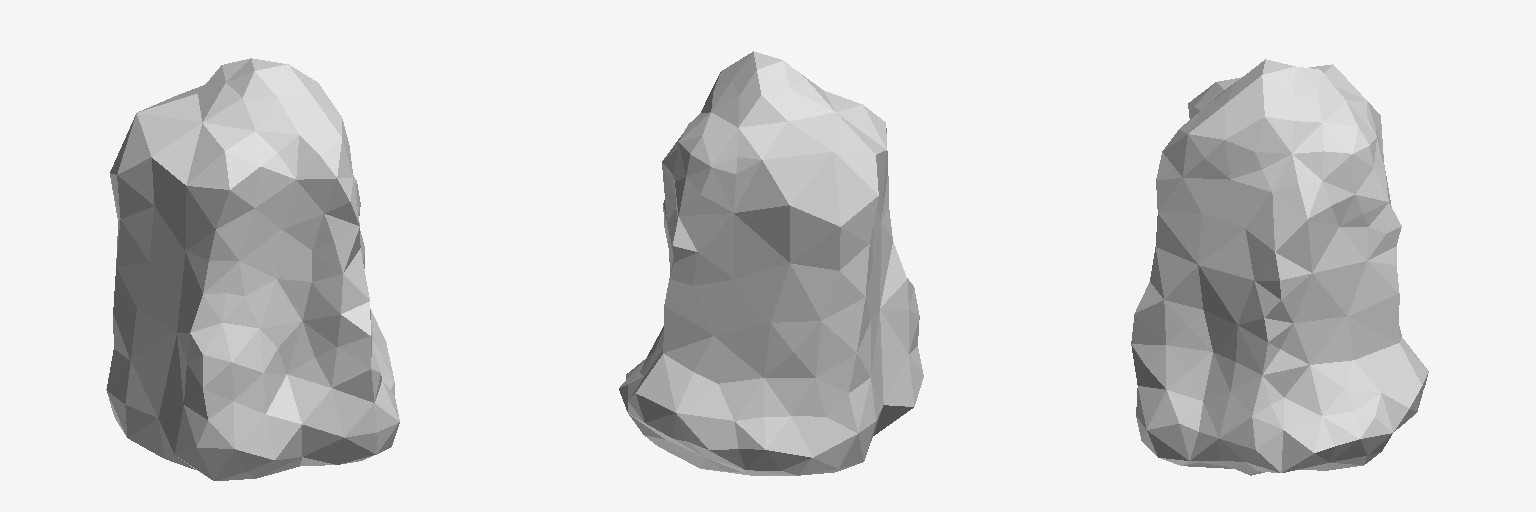
Rendered from rockG.obj.
The picture shows the model from 3 angles: view 1: azimuth 30°, elevation 25°; view 2: azimuth 150°, elevation 25°; view 3: azimuth 270°, elevation 25°; orthographic projection.
Visible parts, largest first — view 1: RockSet05G; view 2: RockSet05G; view 3: RockSet05G.
Boxes of the visible parts, <box> form: RockSet05G: <box>106,58,399,480</box>; RockSet05G: <box>619,51,923,475</box>; RockSet05G: <box>1131,59,1428,475</box>.
Bounding box in the file's own units: 1.1 × 1.63 × 1.14.